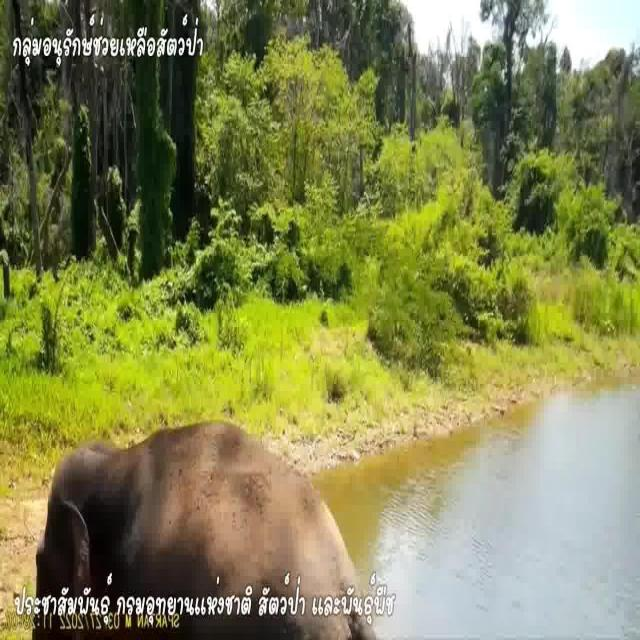Elephant: (38, 410, 345, 602)
